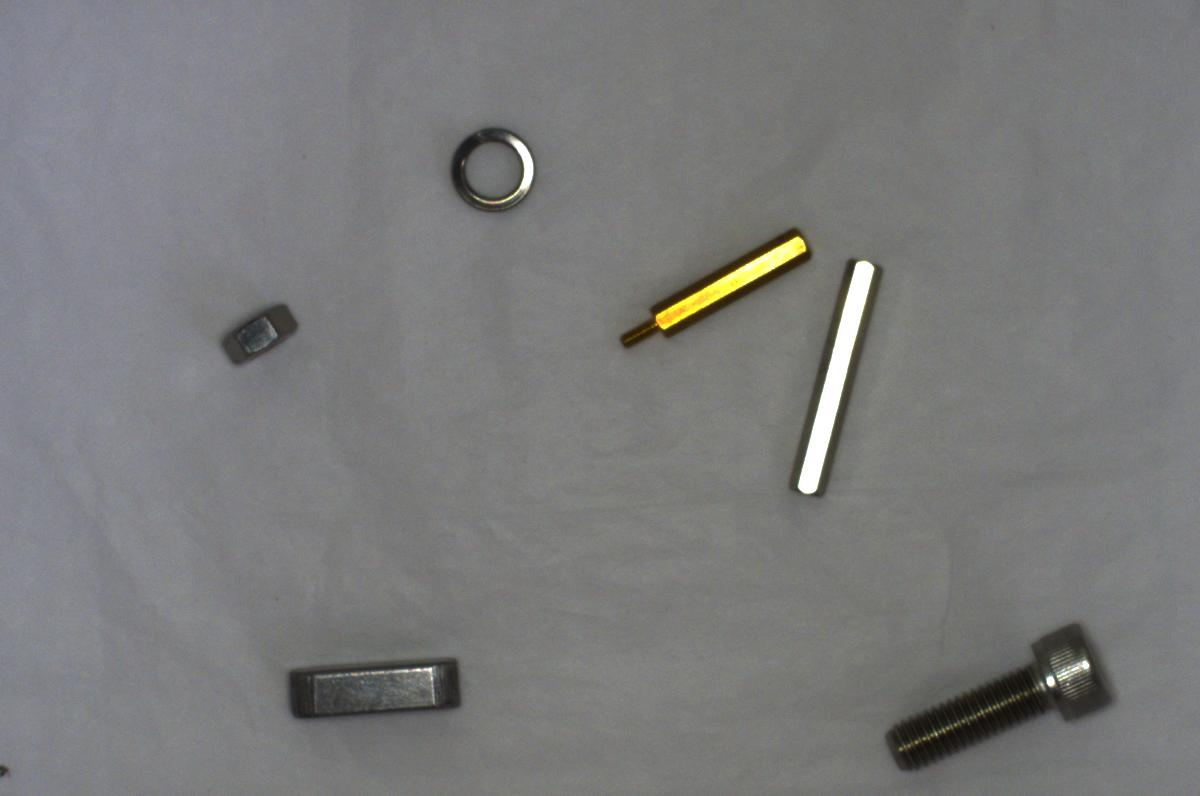Double hexagonal column: (786, 250, 881, 502)
Hexagon nut: (214, 293, 310, 368)
Hexagon pillar: (610, 230, 822, 352)
Hexagon screw: (882, 621, 1120, 772)
Keybar: (274, 640, 470, 728)
Spring washer: (433, 114, 545, 214)
